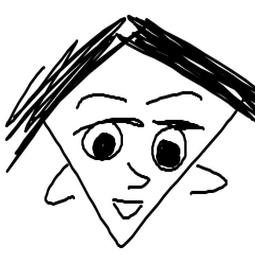ear: (35, 161, 81, 211), (189, 161, 235, 206)
eye: (78, 119, 128, 166), (149, 123, 189, 176)
eyebrow: (71, 85, 132, 108)
frowning_eyebrow: (138, 91, 205, 108)
nose: (117, 160, 154, 197)
open_mouth: (106, 195, 148, 223)
